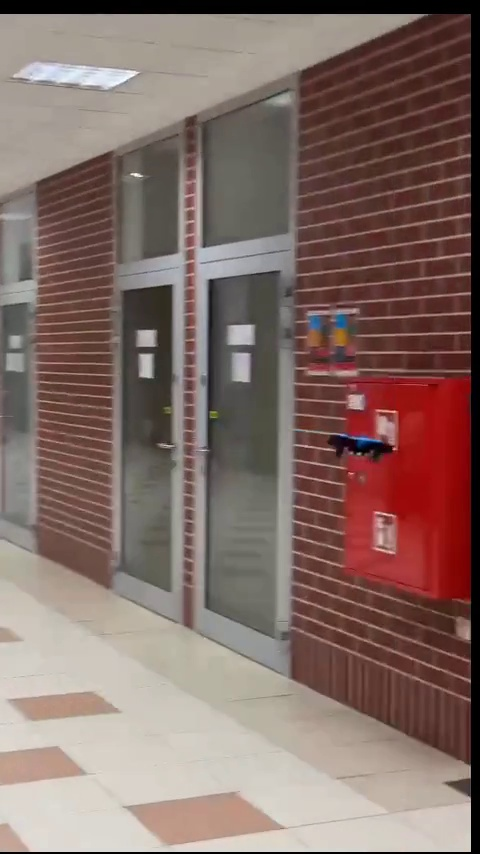drone: (331, 434, 394, 463)
